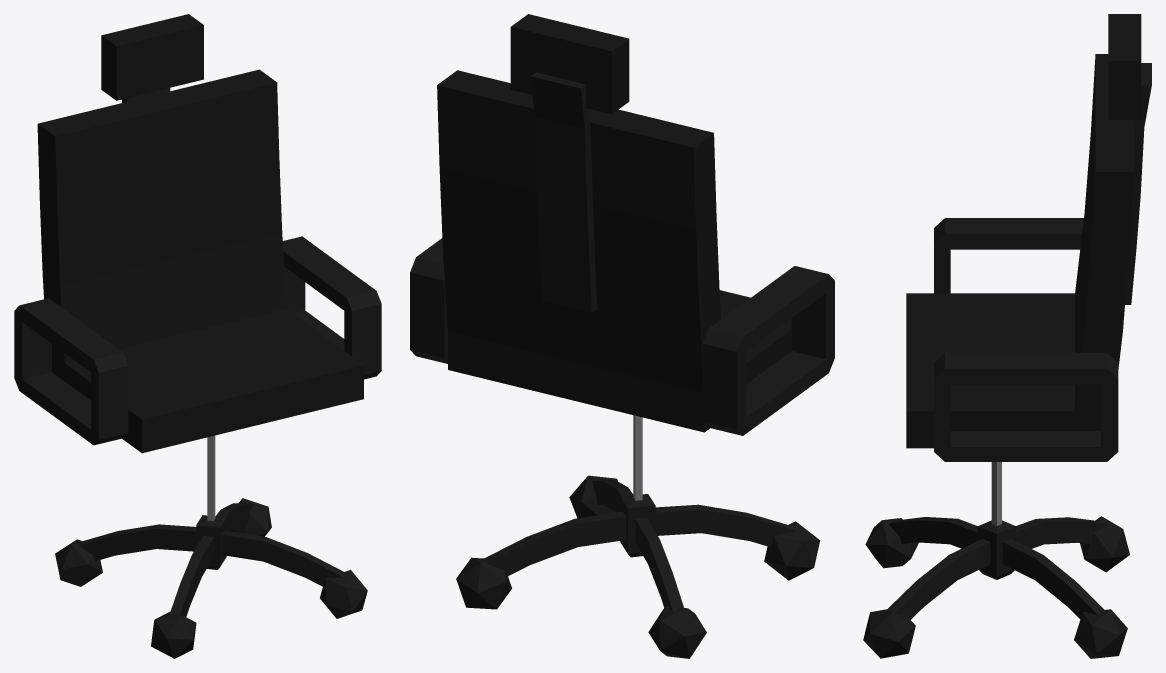
Rendered from model-scenario-levelSafeZone-headquarters-pc-chair.fbx.
3 renders of one model, left to right at view 1: azimuth 30°, elevation 25°; view 2: azimuth 150°, elevation 25°; view 3: azimuth 270°, elevation 25°, orthographic. The views are drawn at different scales.
Parts seen in each view (by area): view 1: chair; view 2: chair; view 3: chair.
Boxes of the visible parts, x1,y1,x2,y2 form: chair: (14,14,381,658); chair: (410,14,834,658); chair: (863,14,1151,658).
Bounding box in the file's own units: 1.28 × 1.04 × 2.28.
3 materials, 3 textured.
